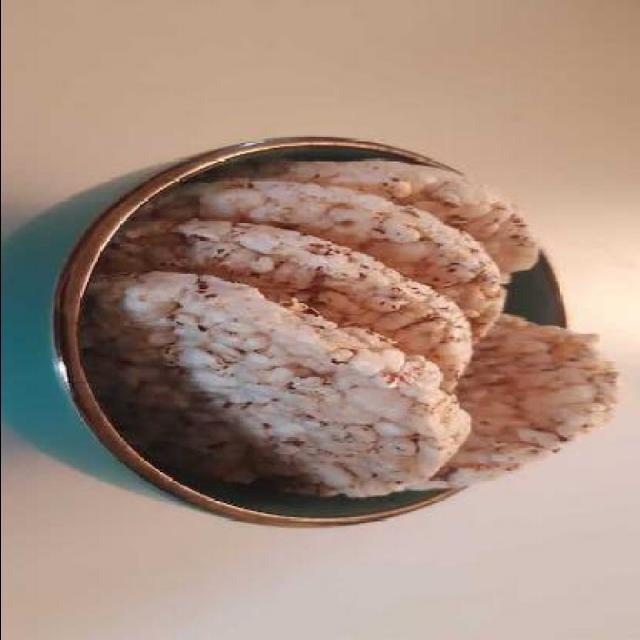Gallette di riso packaged: (96, 156, 618, 504)
